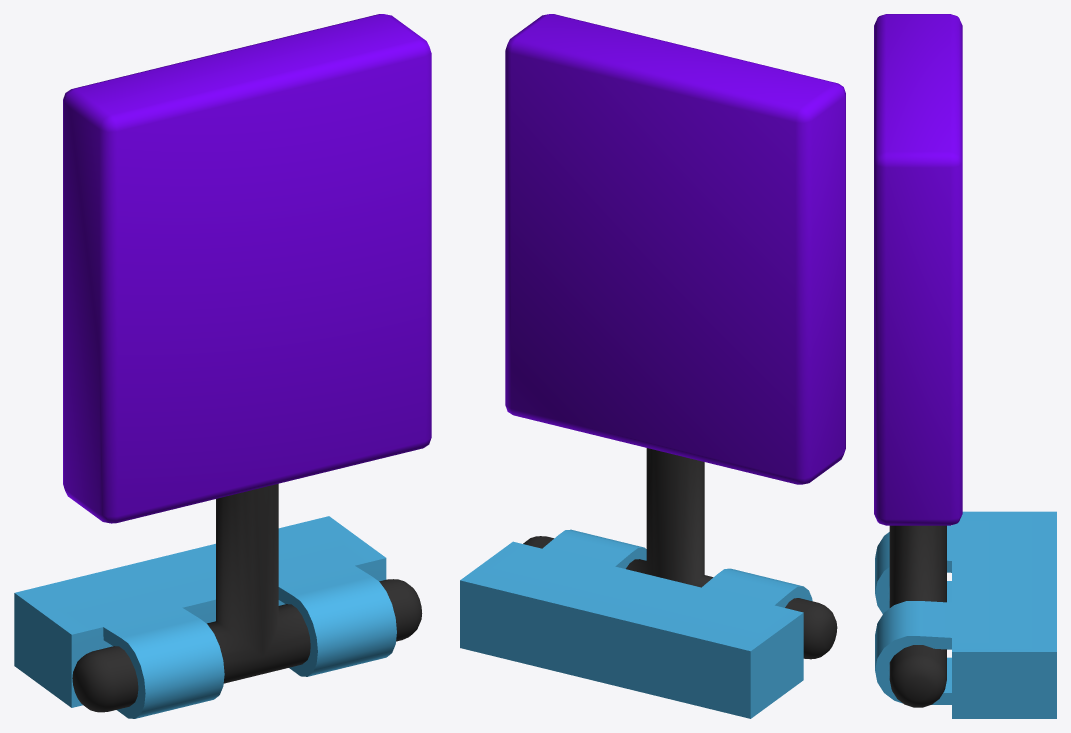
File: Flat_Hammer_02.fbx
3 renders of one model, left to right at view 1: azimuth 30°, elevation 25°; view 2: azimuth 150°, elevation 25°; view 3: azimuth 270°, elevation 25°, orthographic. The views are drawn at different scales.
Visible parts, largest first — view 1: Obstacle_Flat_Hammer_02_Hammer, Obstacle_Flat_Hammer_02; view 2: Obstacle_Flat_Hammer_02_Hammer, Obstacle_Flat_Hammer_02; view 3: Obstacle_Flat_Hammer_02_Hammer, Obstacle_Flat_Hammer_02.
Boxes of the visible parts, bbox=[...] form: Obstacle_Flat_Hammer_02_Hammer: bbox=[63, 14, 431, 712]; Obstacle_Flat_Hammer_02: bbox=[14, 516, 396, 718]; Obstacle_Flat_Hammer_02_Hammer: bbox=[505, 14, 845, 659]; Obstacle_Flat_Hammer_02: bbox=[460, 529, 812, 718]; Obstacle_Flat_Hammer_02_Hammer: bbox=[874, 14, 962, 707]; Obstacle_Flat_Hammer_02: bbox=[875, 511, 1056, 718].
Bounding box in the file's own units: 67.92 × 119 × 34.96.
Materials: 1 (1 with a texture image).
